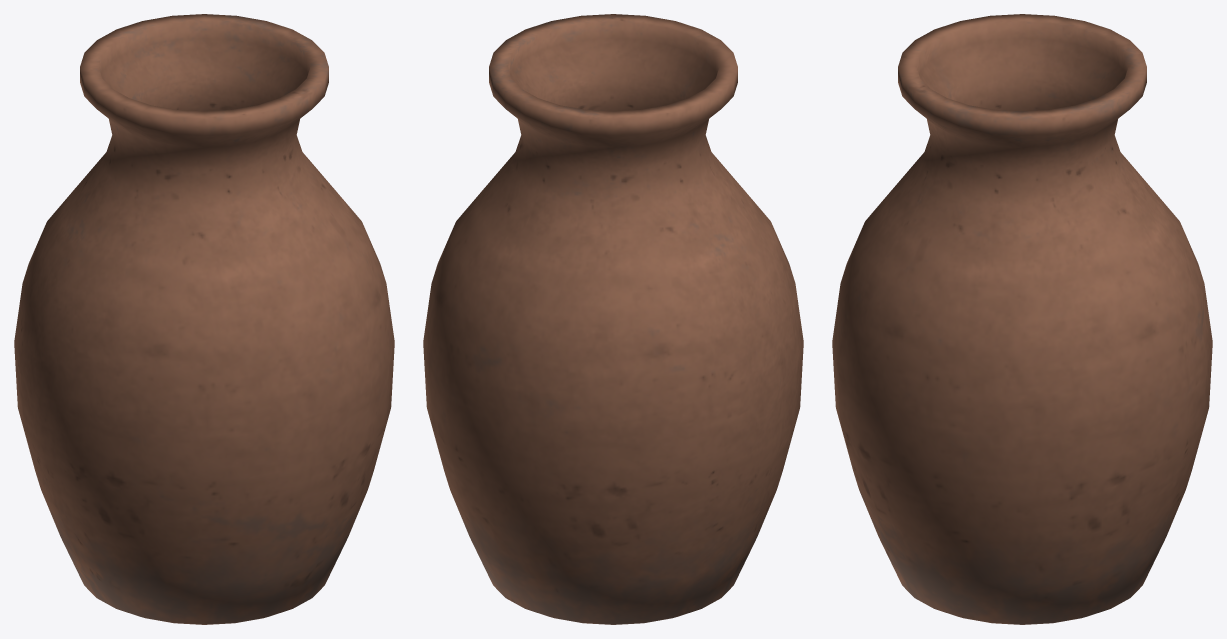
Rendered from clay_vase.glb.
3 views of the same model, side by side, from view 1: azimuth 30°, elevation 25°; view 2: azimuth 150°, elevation 25°; view 3: azimuth 270°, elevation 25° (orthographic).
Visible parts, largest first — view 1: Pottery2_Pottery2_0; view 2: Pottery2_Pottery2_0; view 3: Pottery2_Pottery2_0.
Boxes of the visible parts, left/top/right/bottom form: Pottery2_Pottery2_0: left=14, top=14, right=394, bottom=624; Pottery2_Pottery2_0: left=423, top=14, right=803, bottom=624; Pottery2_Pottery2_0: left=832, top=14, right=1212, bottom=624.
Bounding box in the file's own units: 0.4812 × 0.7099 × 0.4812.
Materials: 1 (1 with a texture image).
